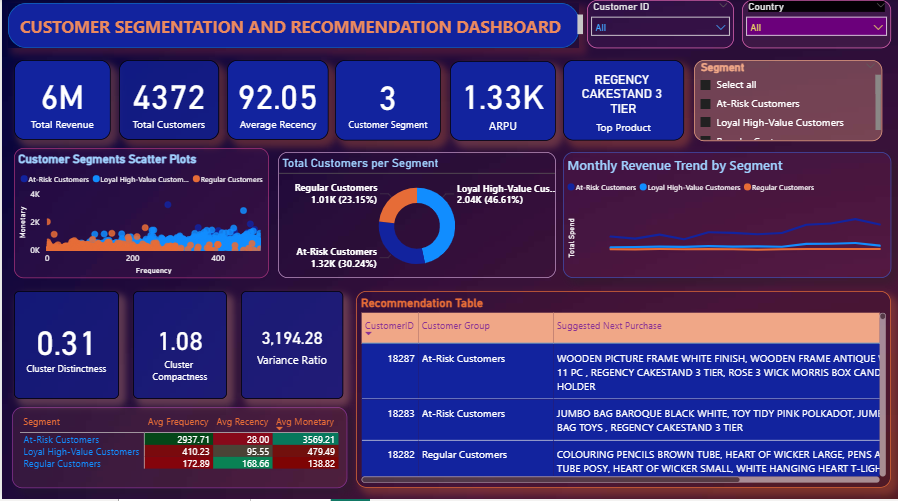

The page's visual inventory and layout, read from the dashboard file:
{"tool":"powerbi","page":{"name":"Customer Insigts","canvas":[1280,720],"ordinal":0},"visuals":[{"type":"shape","box":[8.6,11.4,815.7,64.3],"z":0},{"type":"textbox","box":[20.2,23,815,40.3],"z":1000},{"type":"card","fields":{"Values":["transactions.Total Revenue"]},"box":[17.3,92.2,138.2,113.8],"z":2000},{"type":"card","fields":{"Values":["customer_segments.Total Customers"]},"box":[167,92.2,142.6,113.8],"z":3000},{"type":"card","fields":{"Values":["customer_segments.Average Recency"]},"box":[321.1,92.2,145.4,113.8],"z":4000},{"type":"card","fields":{"Values":["customer_segments.Customer Segments"]},"box":[475.2,92.2,151.2,115.2],"z":5000},{"type":"scatterChart","title":" Customer Segments Scatter Plots ","fields":{"X":["customer_segments.Frequency"],"Y":["customer_segments.Monetary"],"Series":["customer_segments.Segment"],"Category":["customer_segments.CustomerID"]},"box":[14.4,218.9,364.3,185.8],"z":6000},{"type":"donutChart","title":"Total Customers per Segment","fields":{"Category":["customer_segments.Segment"],"Y":["CountNonNull(customer_segments.CustomerID)"]},"box":[394.3,224.3,397.1,180],"z":7000},{"type":"pivotTable","fields":{"Rows":["customer_segments.Segment"],"Values":["Avg(customer_segments.Frequency)","Avg(customer_segments.Recency)","Avg(customer_segments.Monetary)"]},"box":[14.3,588.6,478.6,115.7],"z":8000},{"type":"lineChart","title":"Monthly Revenue Trend by Segment","fields":{"Category":["transactions.InvoiceMonth"],"Y":["Sum(transactions.TotalSpend)"],"Series":["customer_segments.Segment"]},"box":[801.4,224.3,468.6,180],"z":9000},{"type":"slicer","fields":{"Values":["customer_segments.Segment"]},"box":[988.6,92.9,268.6,115.7],"z":10000},{"type":"slicer","fields":{"Values":["transactions.Country"]},"box":[1056.7,7.5,213.4,68.7],"z":11000},{"type":"slicer","fields":{"Values":["transactions.CustomerID"]},"box":[835.7,7.1,210,68.6],"z":12000},{"type":"card","fields":{"Values":["transactions.Revenue per Customer"]},"box":[639.4,93.6,151.2,113.8],"z":13000},{"type":"card","fields":{"Values":["transactions.Top Product"]},"box":[802.1,92.2,172.8,115.2],"z":14000},{"type":"tableEx","title":"Recommendation Table","fields":{"Values":["customer_segments.CustomerID","customer_segments.Segment","customer_segments.Hybrid_Recommendations"]},"box":[505.7,422.9,764.3,281.4],"z":15000},{"type":"card","fields":{"Values":["Avg(customer_segments.Silhouette_Score)"]},"box":[17.1,422.9,150,154.3],"z":16000},{"type":"card","fields":{"Values":["Avg(customer_segments.DB_Index)"]},"box":[187.1,422.9,134.3,154.3],"z":17000},{"type":"card","fields":{"Values":["Avg(customer_segments.CH_Index)"]},"box":[341.4,422.9,145.7,154.3],"z":18000}]}

Visuals, with their boxes in screenshot pixels (x1, y1, x2, y2), scaled from the page's 1280x720 canvas onto the 898x501 screenshot:
shape: <box>6,8,578,53</box>
textbox: <box>14,16,586,44</box>
card - transactions.Total Revenue: <box>12,64,109,143</box>
card - customer_segments.Total Customers: <box>117,64,217,143</box>
card - customer_segments.Average Recency: <box>225,64,327,143</box>
card - customer_segments.Customer Segments: <box>333,64,439,144</box>
" Customer Segments Scatter Plots " scatterChart: <box>10,152,266,282</box>
"Total Customers per Segment" donutChart: <box>277,156,555,281</box>
pivotTable - customer_segments.Segment x Avg(customer_segments.Frequency): <box>10,410,346,490</box>
"Monthly Revenue Trend by Segment" lineChart: <box>562,156,891,281</box>
slicer - customer_segments.Segment: <box>694,65,882,145</box>
slicer - transactions.Country: <box>741,5,891,53</box>
slicer - transactions.CustomerID: <box>586,5,734,53</box>
card - transactions.Revenue per Customer: <box>449,65,555,144</box>
card - transactions.Top Product: <box>563,64,684,144</box>
"Recommendation Table" tableEx: <box>355,294,891,490</box>
card - Avg(customer_segments.Silhouette_Score): <box>12,294,117,402</box>
card - Avg(customer_segments.DB_Index): <box>131,294,225,402</box>
card - Avg(customer_segments.CH_Index): <box>240,294,342,402</box>
